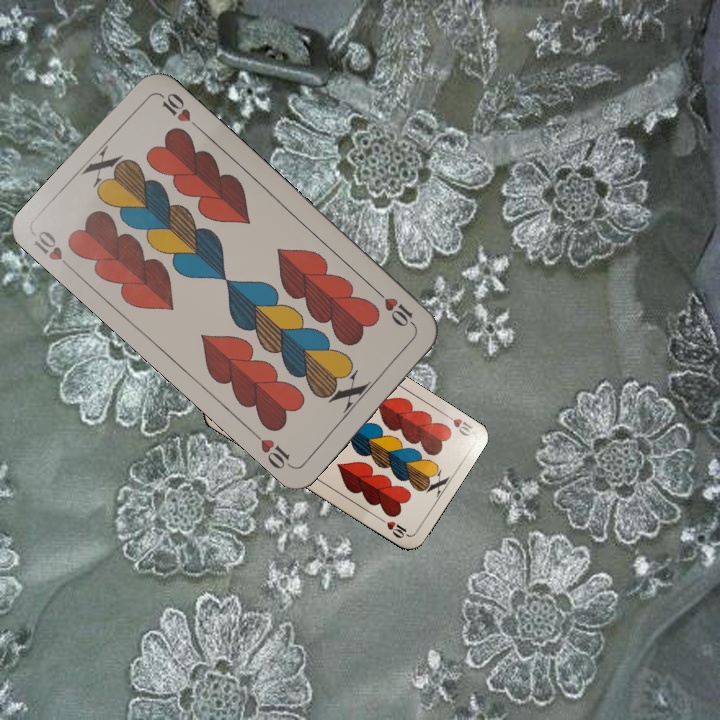H10: (29, 226, 78, 275), (372, 286, 419, 331), (439, 408, 476, 439)
